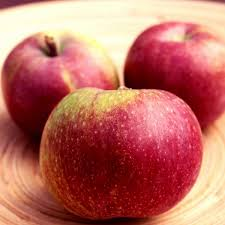apple: (43, 93, 197, 219), (6, 37, 117, 134), (129, 24, 223, 125)
